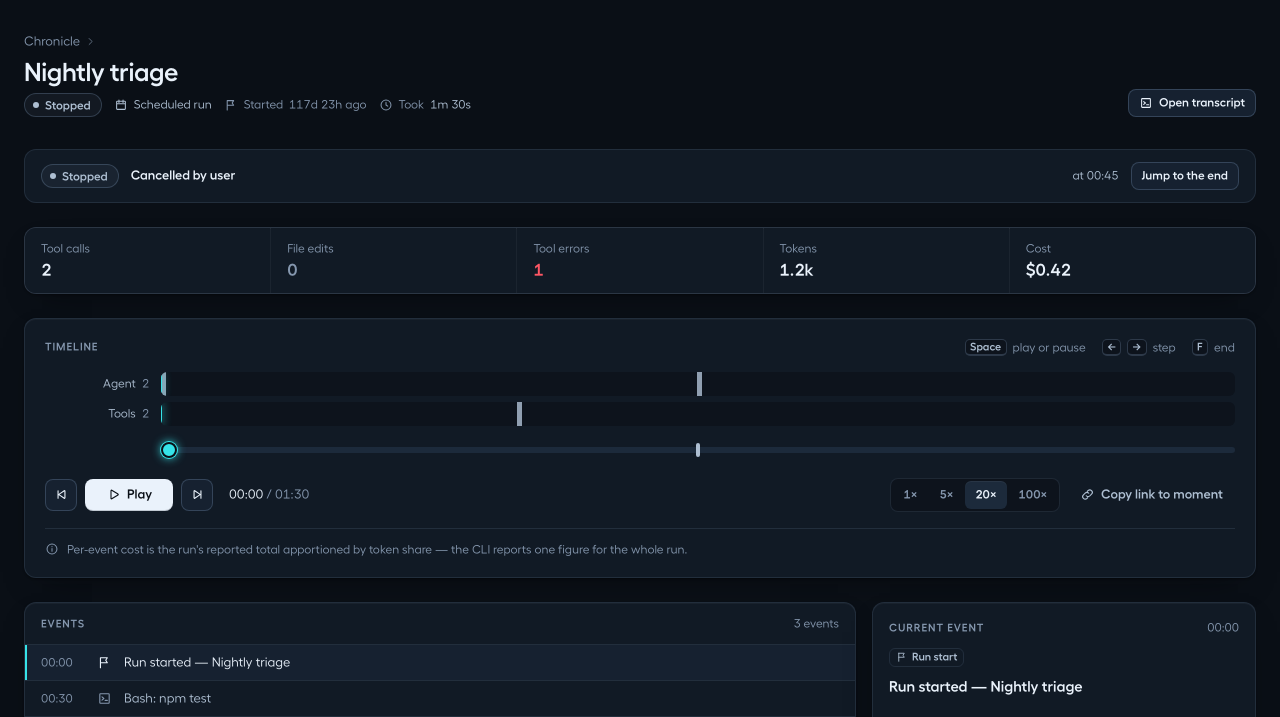
FlightRecorder › tells a stopped run's reason from the server's own stop marker
This screenshot has width=1280, height=717.
Expected: the text "Cancelled by user" shows "Stopped", [62,170,108,182]
Click the button "Jump to the end" at (1185,176), box [1130,162,1239,190]
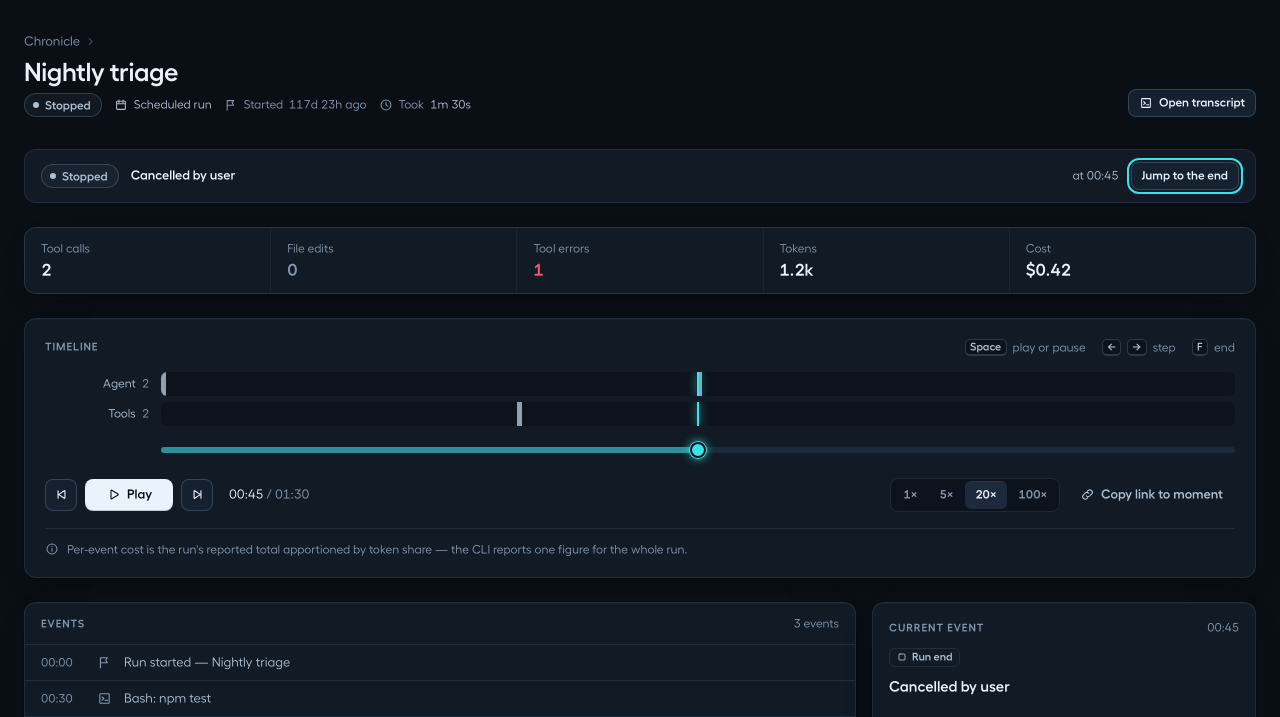
Expected: the slider named "scrub the recording" holds "45000", [161,438,1235,462]
Expected: the text "Cancelled by user" below "Run end" is shown, [889,679,1010,694]
